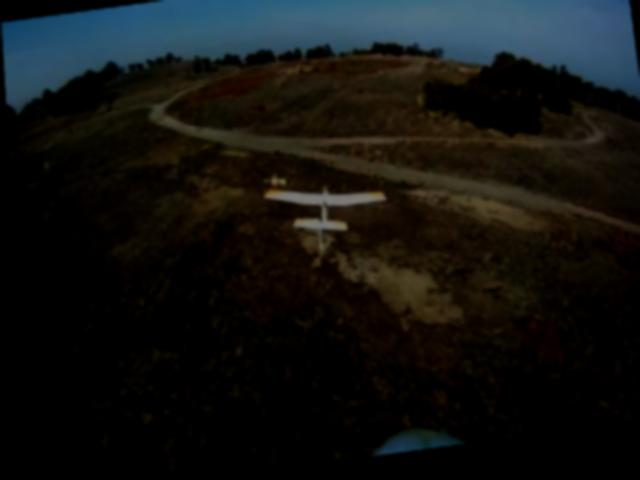uav: (254, 166, 393, 268)
